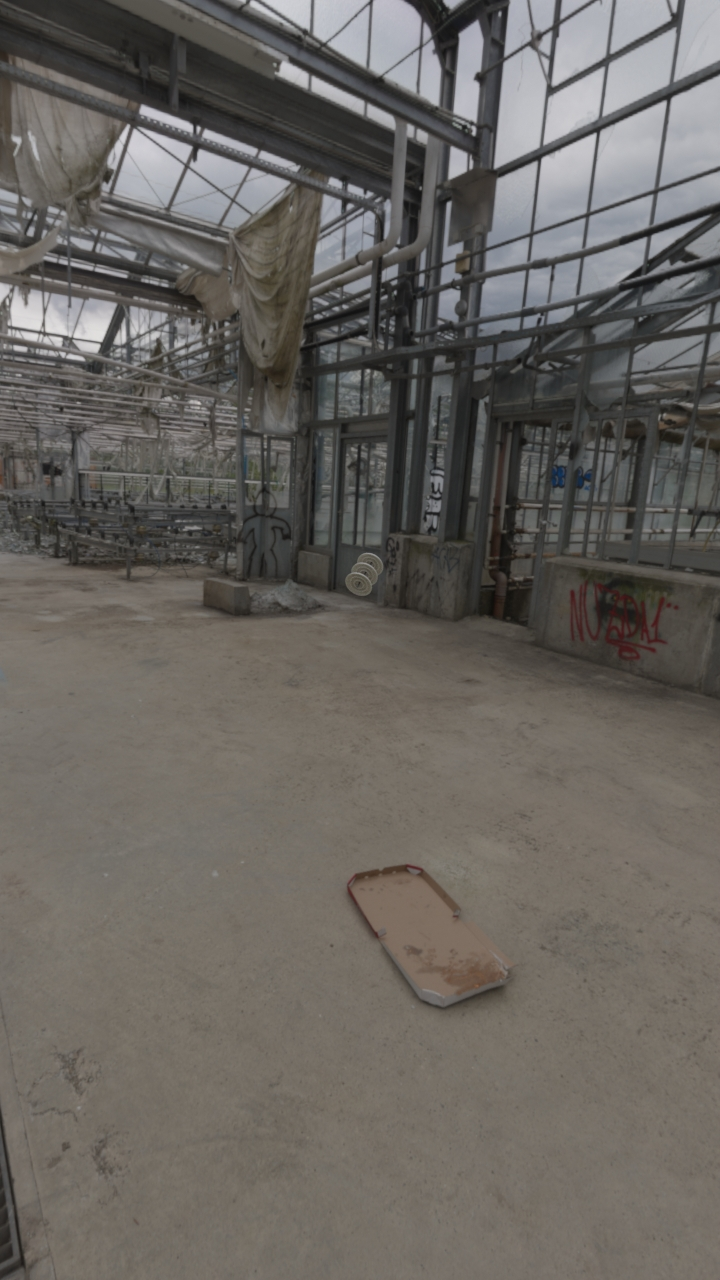ceramicinsulators: (345, 553, 383, 596)
